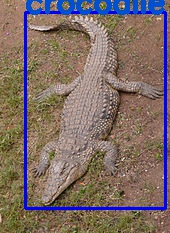crocodile: (25, 11, 165, 208)
